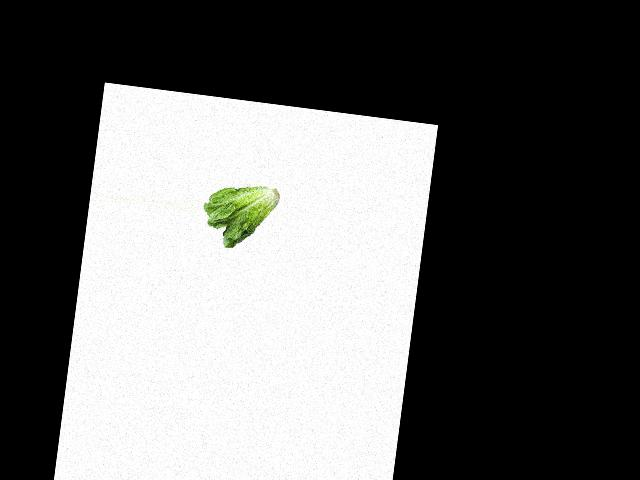lettuce: (197, 176, 280, 256)
